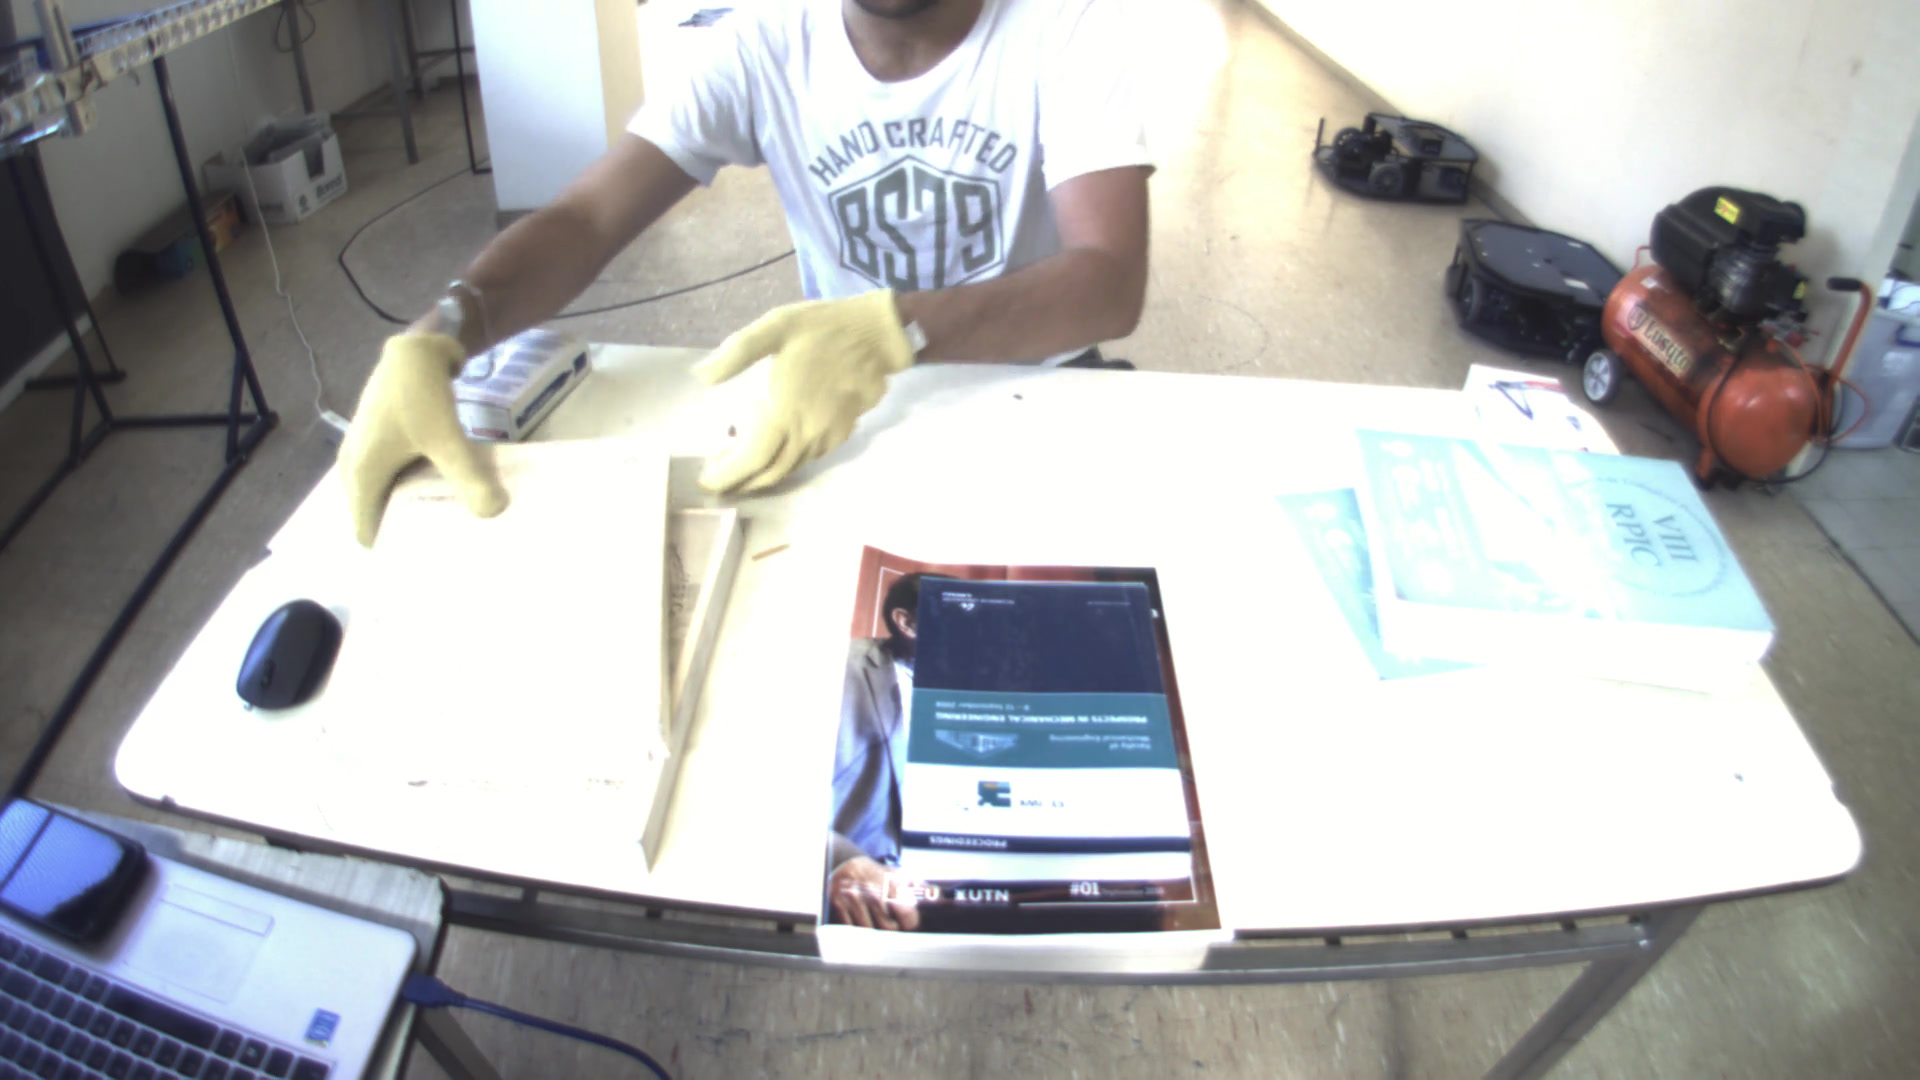hand: (679, 266, 920, 498), (326, 313, 509, 553)
